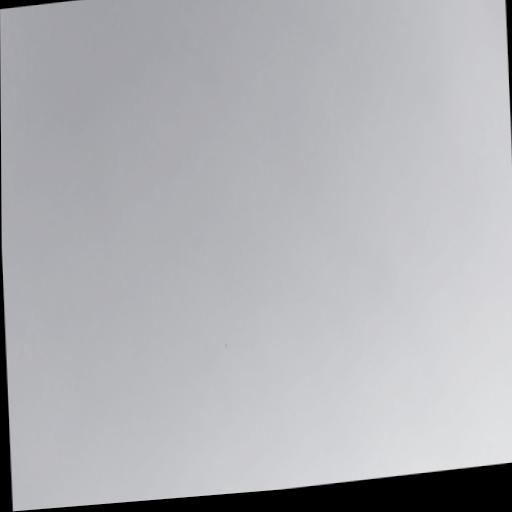drones: (223, 341, 227, 349)
